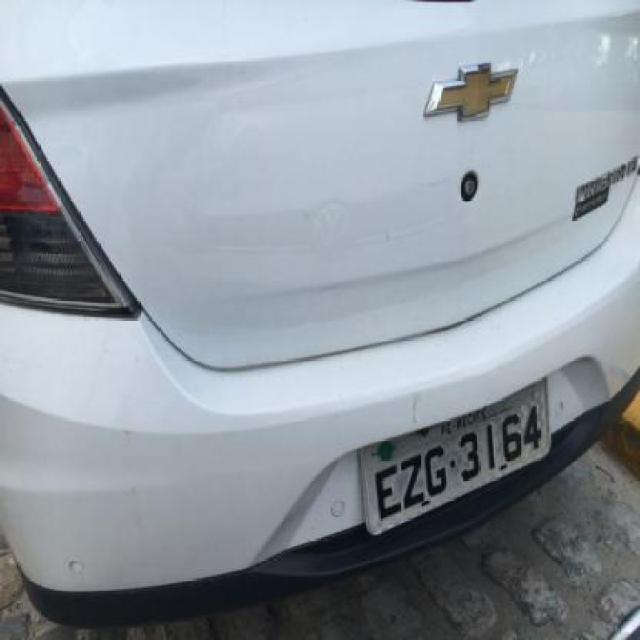old_plate: (350, 372, 558, 543)
